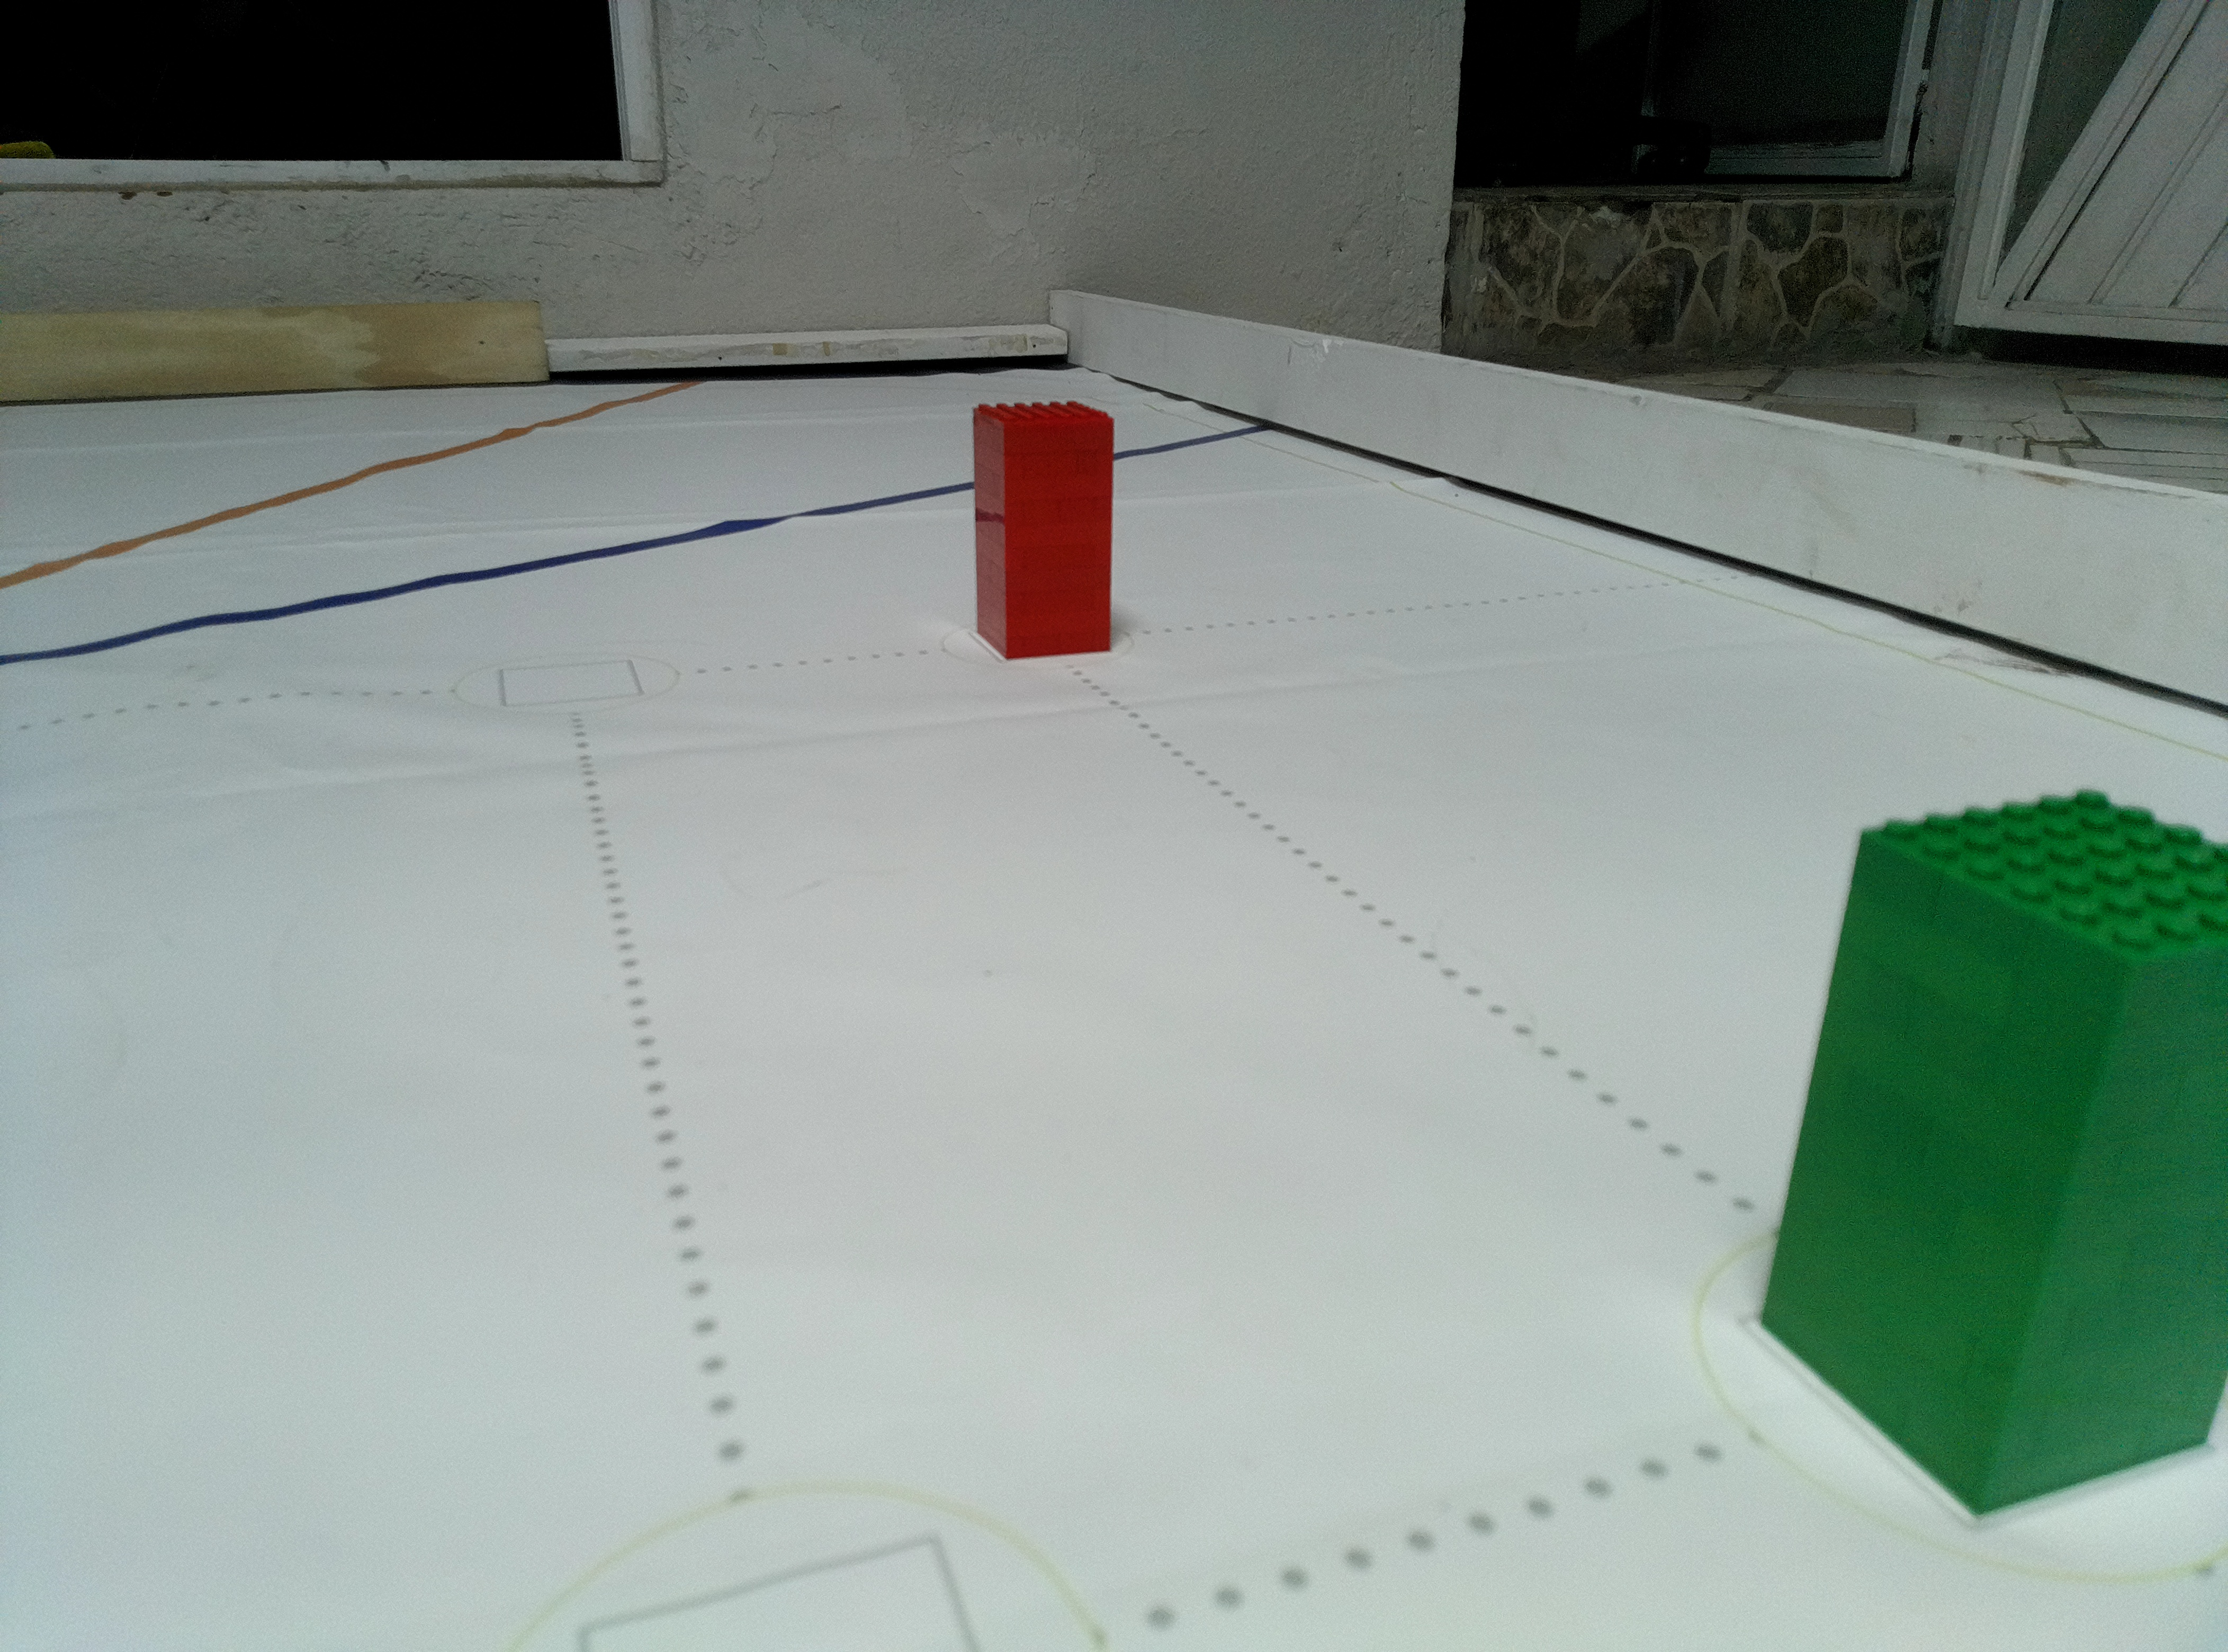greenbox: (1739, 770, 2228, 1529)
redbox: (968, 392, 1119, 661)
